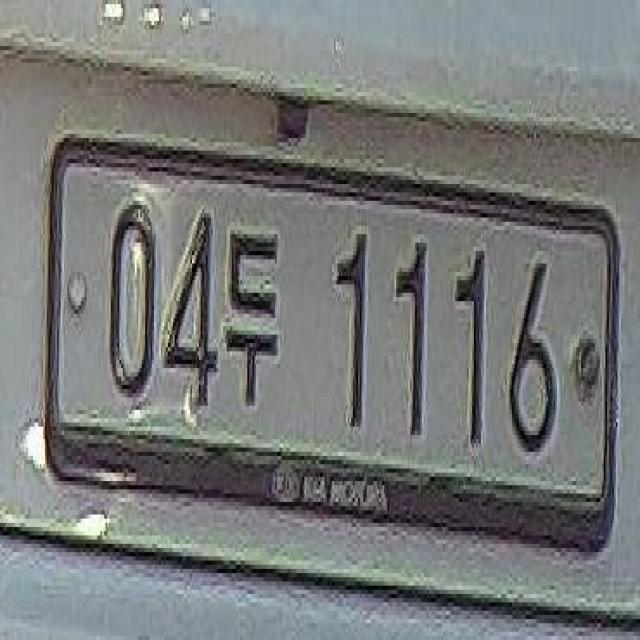illegal_plate: (45, 140, 625, 550)
